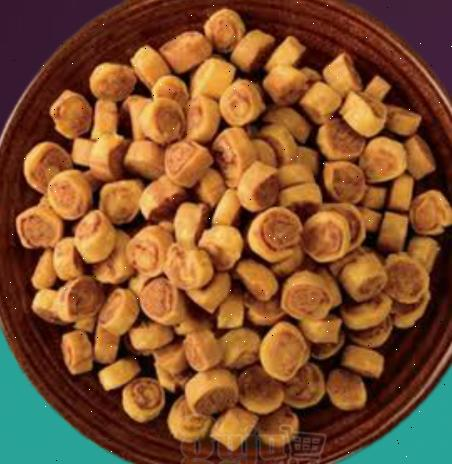bhakarwadi: (16, 20, 450, 429)
